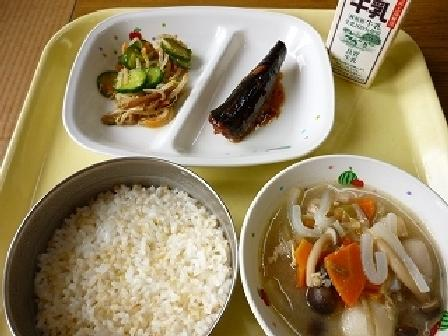Fish: (208, 36, 305, 145)
Milk: (325, 0, 415, 76)
Rice: (8, 159, 245, 335)
Salad: (95, 25, 193, 120)
Soups: (240, 163, 446, 335)
